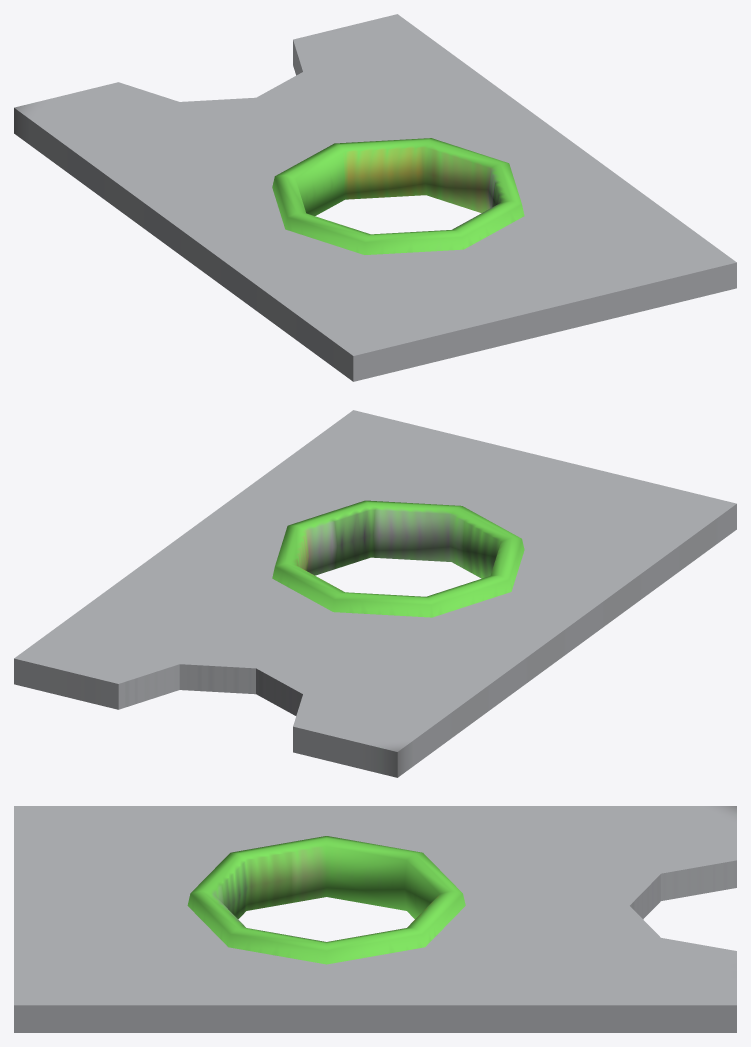
Rendered from TaskItems_Card.fbx.
3 views of the same model, one above another, from view 1: azimuth 30°, elevation 25°; view 2: azimuth 150°, elevation 25°; view 3: azimuth 270°, elevation 25° (orthographic). The views are drawn at different scales.
Visible parts, largest first — view 1: Plane; view 2: Plane; view 3: Plane.
Part boxes in pixels (x1,y1,x2,y2): Plane: (14,14,736,381); Plane: (14,410,736,777); Plane: (14,806,736,1032).
Size of the model in its own units: 30.11 by 4 by 46.16.
